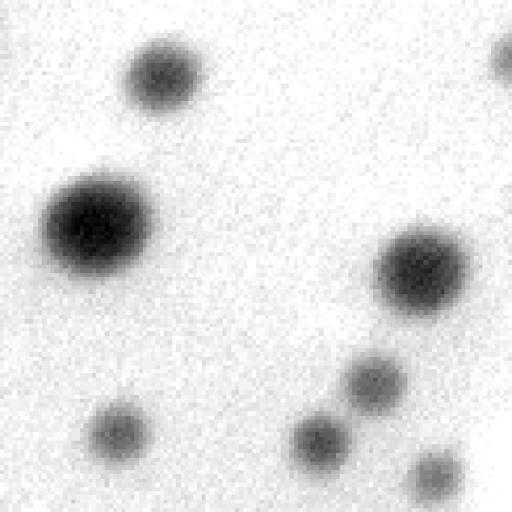Nanoparticles: (33, 163, 161, 285), (368, 215, 472, 321), (119, 33, 207, 117), (339, 342, 417, 422), (82, 394, 155, 470), (403, 443, 481, 512), (284, 409, 356, 482), (490, 32, 512, 88)
